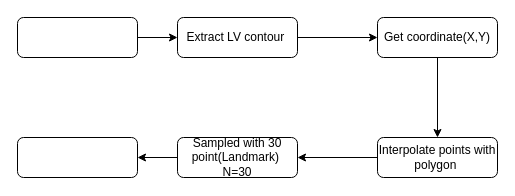
The diagram is 515 pixels wide and 196 high, and some of its shapes have lost their labels. The shapes that lost their labels are listed below. From the top down, each one's centre as x and y in pixels, then its label:
At point 77,37: "Read GT image".
At point 77,157: "Stored Landmark in array 2*1788*30".
